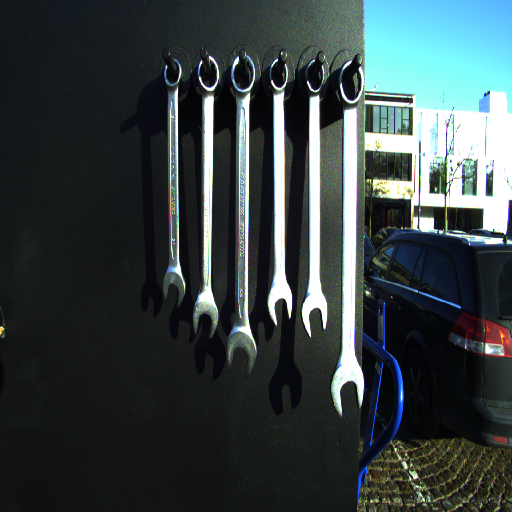bottom: (329, 363, 365, 419), (225, 328, 258, 379), (299, 294, 330, 338), (265, 285, 294, 329), (191, 296, 220, 339), (161, 270, 187, 306)
top: (337, 59, 365, 105), (229, 54, 256, 95), (194, 55, 221, 93), (303, 59, 327, 94), (267, 57, 290, 92), (161, 59, 183, 89)
